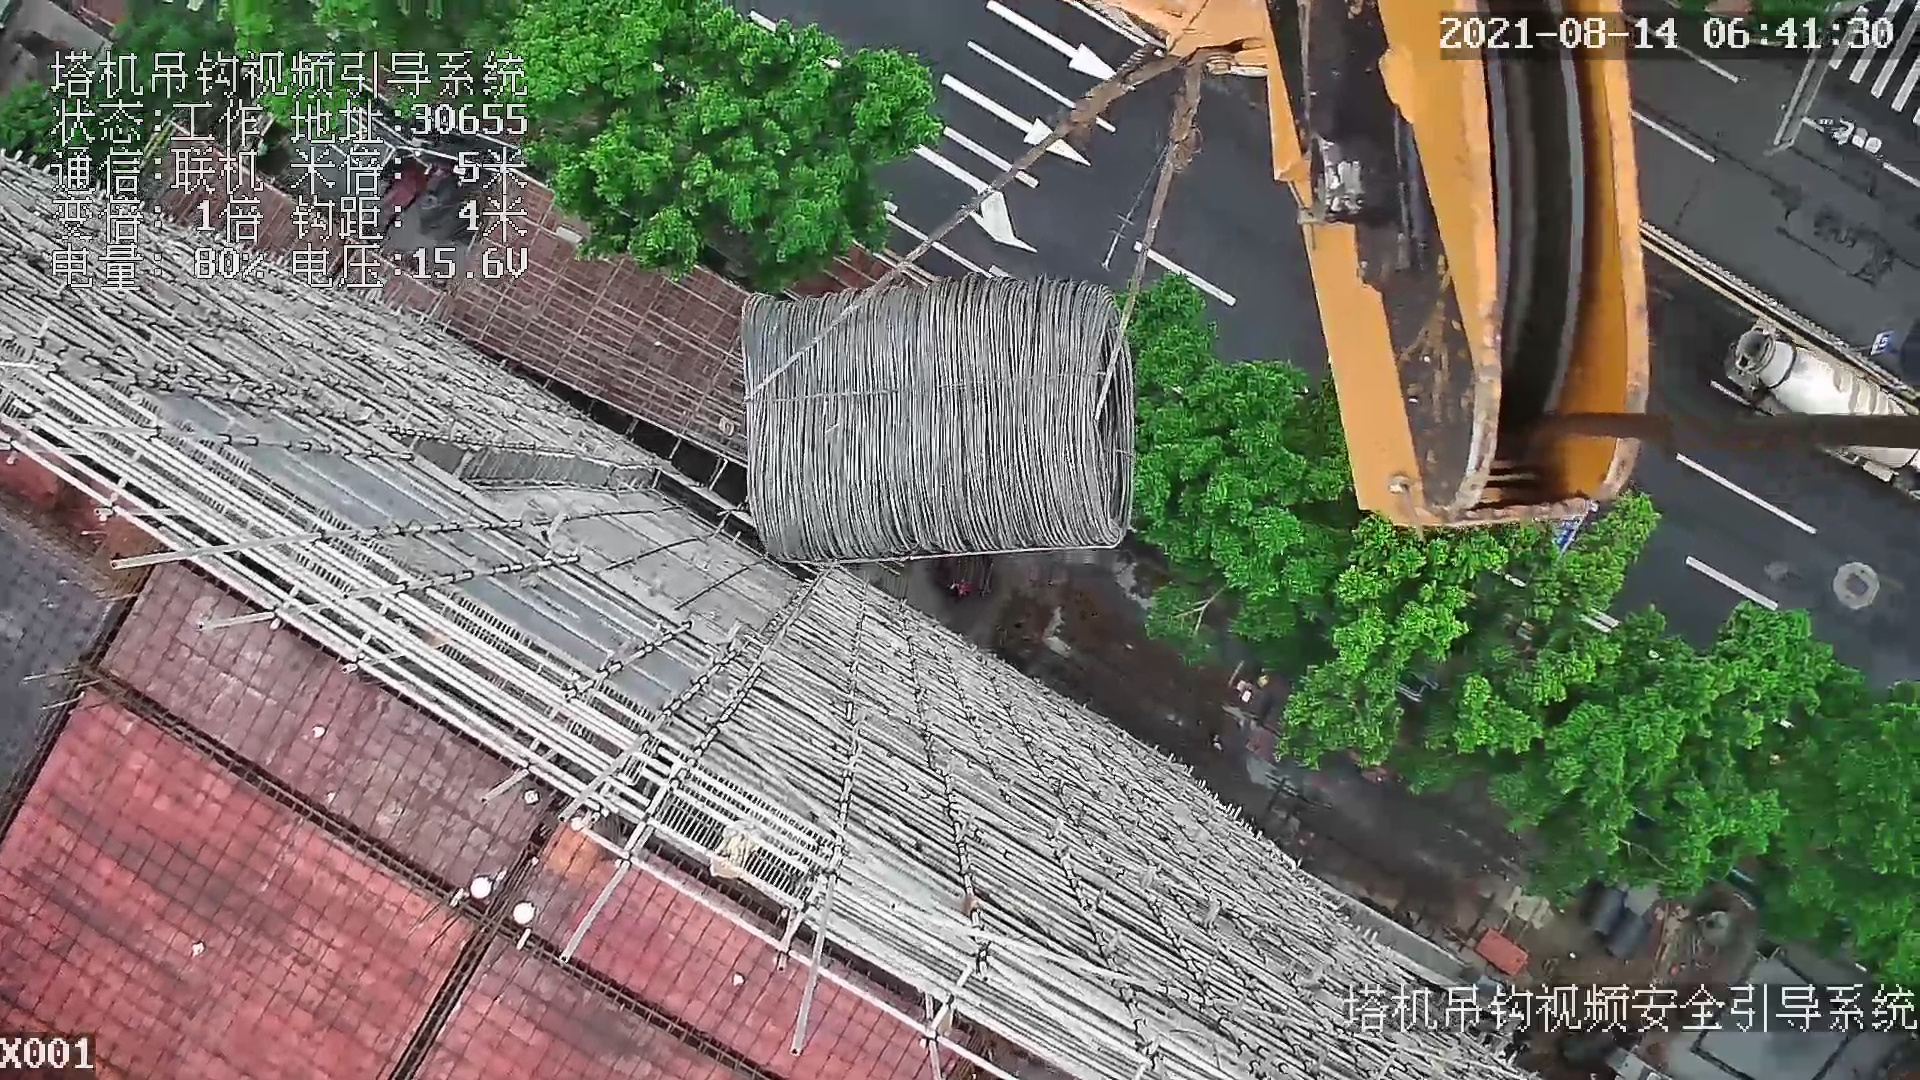hook: (1114, 1, 1662, 514)
